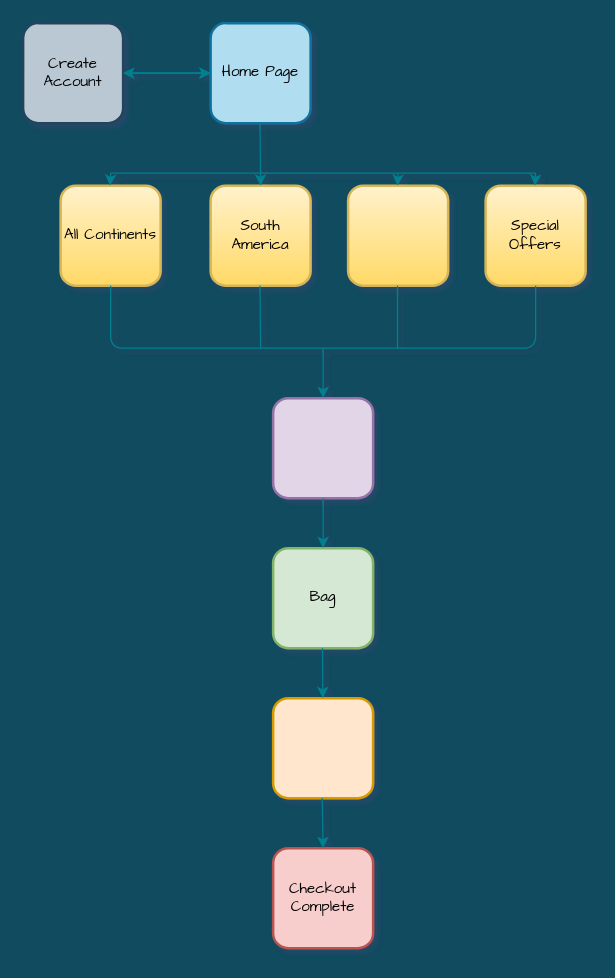
The diagram is 615 pixels wide and 978 high, and some of its shapes have lost their labels. The shapes that lost their labels are listed below. From the top down, each one's centre as x and y in pixels, then its label:
(397,235): Africa
(322,447): Products
(322,747): Checkout
